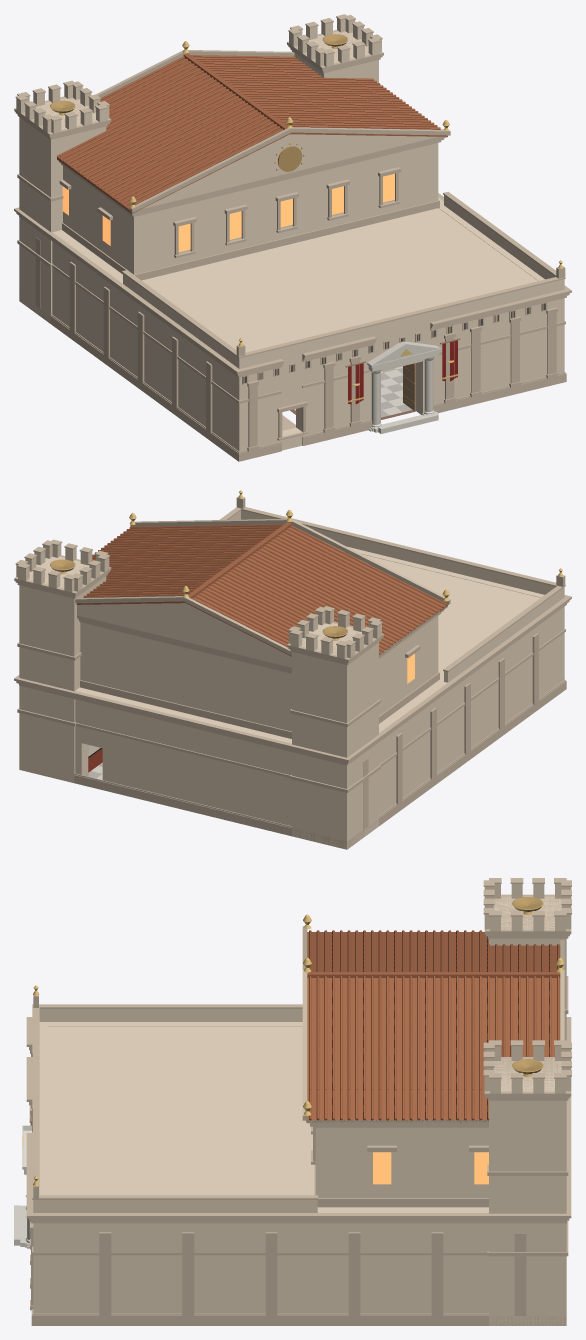
Rendered from palace_bldg.glb.
The picture shows the model from 3 angles, top to bottom: view 1: azimuth 30°, elevation 25°; view 2: azimuth 150°, elevation 25°; view 3: azimuth 270°, elevation 25°; orthographic projection. The views are drawn at different scales.
Visible parts, largest first — view 1: palace_tex_sandstone, palace_tex_sandstone_dark, palace_rooftile, palace_marble, palace_window_glow, palace_bronze, palace_cloth_red, palace_tex_wood, palace_marble_grey, palace_gold; view 2: palace_tex_sandstone, palace_tex_sandstone_dark, palace_rooftile, palace_bronze; view 3: palace_tex_sandstone, palace_rooftile, palace_tex_sandstone_dark, palace_window_glow, palace_marble, palace_bronze.
Boxes of the visible parts, x1,y1,x2,y2 form: palace_tex_sandstone: (16,18,564,451); palace_tex_sandstone_dark: (14,14,571,461); palace_rooftile: (57,53,447,213); palace_marble: (294,341,441,433); palace_window_glow: (62,173,394,252); palace_bronze: (50,34,414,404); palace_cloth_red: (348,340,457,404); palace_tex_wood: (345,338,460,410); palace_marble_grey: (381,368,412,417); palace_gold: (129,41,563,402); palace_tex_sandstone: (16,510,564,849); palace_tex_sandstone_dark: (14,496,571,848); palace_rooftile: (76,522,447,656); palace_bronze: (50,559,347,640); palace_tex_sandstone: (33,884,571,1325); palace_rooftile: (306,930,560,1122); palace_tex_sandstone_dark: (26,878,571,1325); palace_window_glow: (373,1152,488,1184); palace_marble: (14,1125,32,1248); palace_bronze: (512,897,543,1077).
Bounding box in the file's own units: 25.58 × 16.2 × 30.24.
